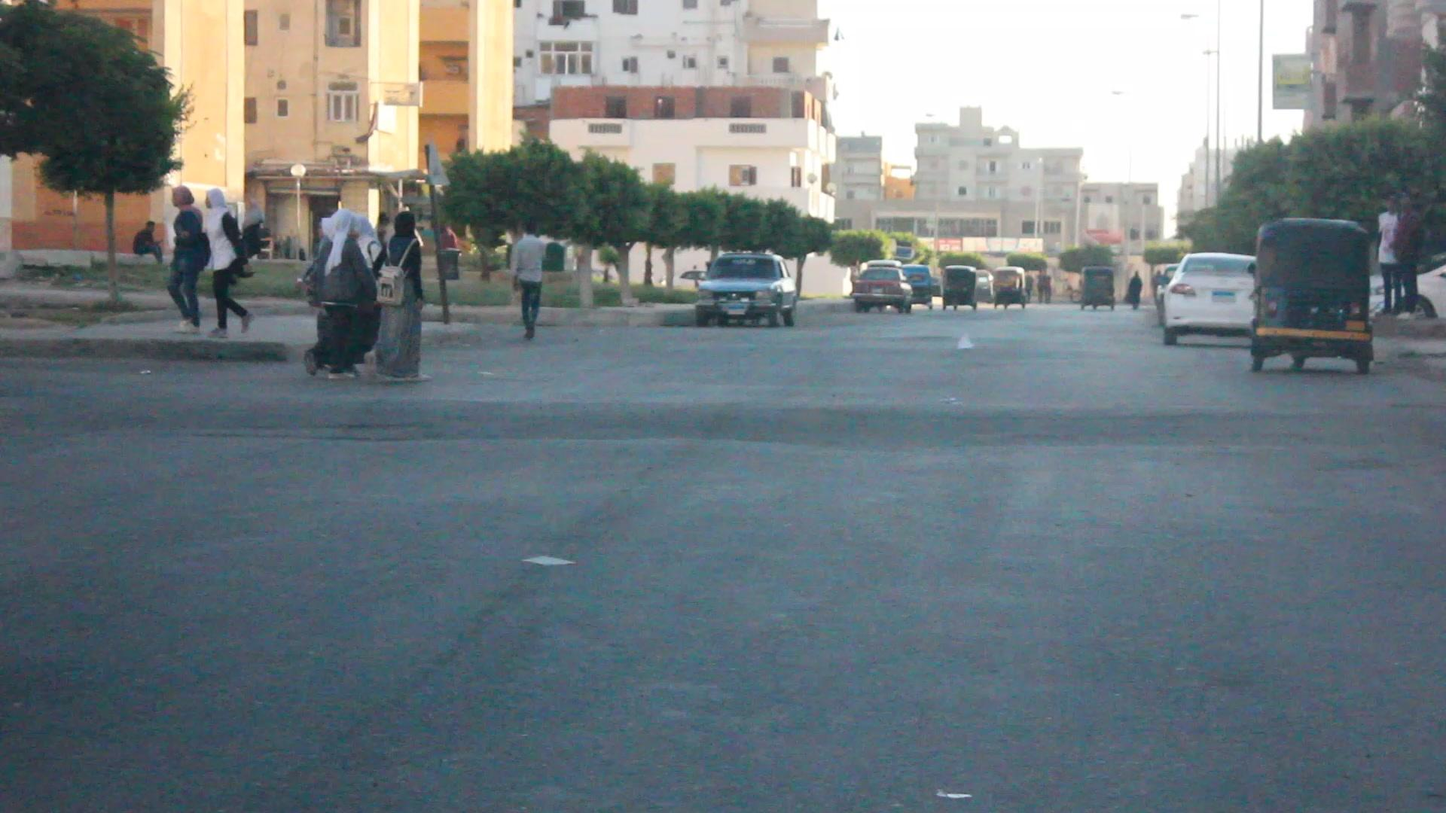Bump: (0, 357, 1445, 474)
